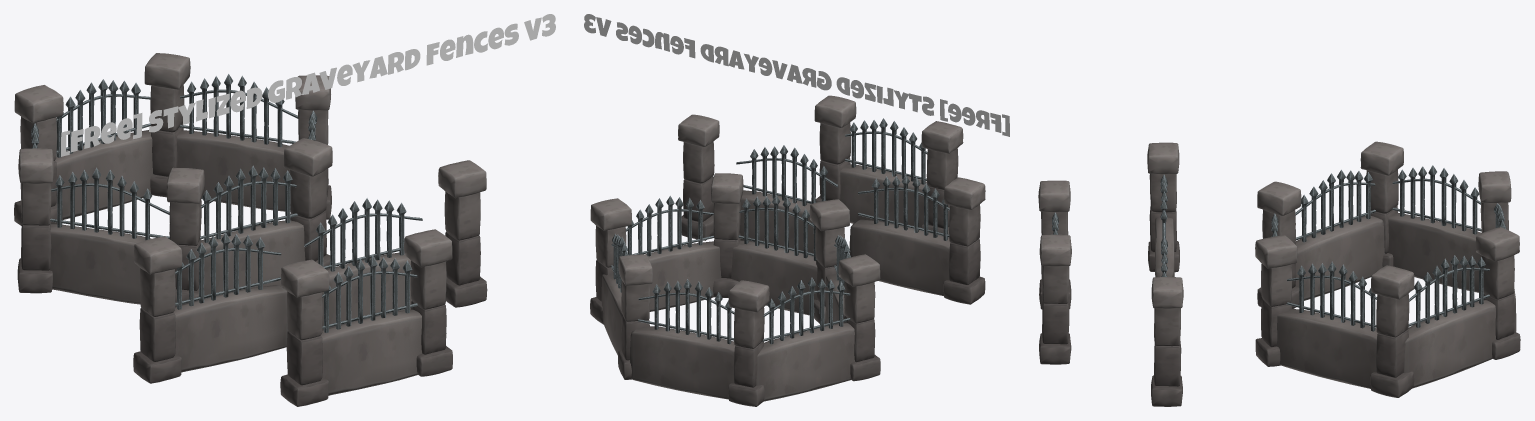
Rendered from StylizedGraveyardFencesV3.fbx.
The picture shows the model from 3 angles, left to right: view 1: azimuth 30°, elevation 25°; view 2: azimuth 150°, elevation 25°; view 3: azimuth 270°, elevation 25°; orthographic projection. The views are drawn at different scales.
Visible parts, largest first — view 1: Example4, BigStoneFence, BigStoneFence_NoPost, Text.002, StoneFence, BigStonePost; view 2: Example4, BigStoneFence_NoPost, BigStoneFence, Text.002, StoneFence, BigStonePost; view 3: Example4, BigStoneFence, BigStonePost, BigStoneFence_NoPost.
Boxes of the visible parts, <box> form: Example4: <box>14,53,332,306</box>; BigStoneFence: <box>280,229,452,406</box>; BigStoneFence_NoPost: <box>133,232,288,383</box>; Text.002: <box>61,14,555,156</box>; StoneFence: <box>304,198,422,329</box>; BigStonePost: <box>438,160,487,307</box>; Example4: <box>590,173,880,406</box>; BigStoneFence_NoPost: <box>849,174,985,304</box>; BigStoneFence: <box>814,95,963,237</box>; Text.002: <box>584,14,1009,136</box>; StoneFence: <box>736,145,837,253</box>; BigStonePost: <box>678,114,719,240</box>; Example4: <box>1255,141,1520,397</box>; BigStoneFence: <box>1038,180,1071,364</box>; BigStonePost: <box>1151,276,1183,406</box>; BigStoneFence_NoPost: <box>1147,142,1179,277</box>.
Size of the model in its own units: 837 by 398 by 787.
